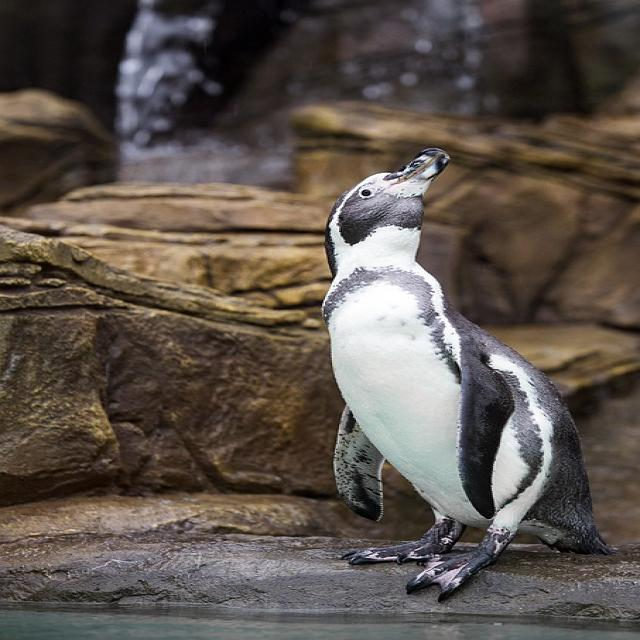Carnivorous: (321, 149, 613, 602)
